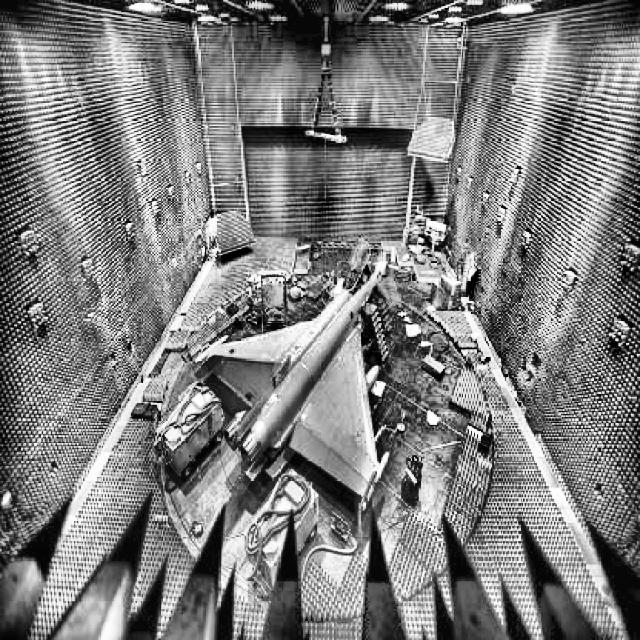EF2000: (193, 238, 390, 513)
